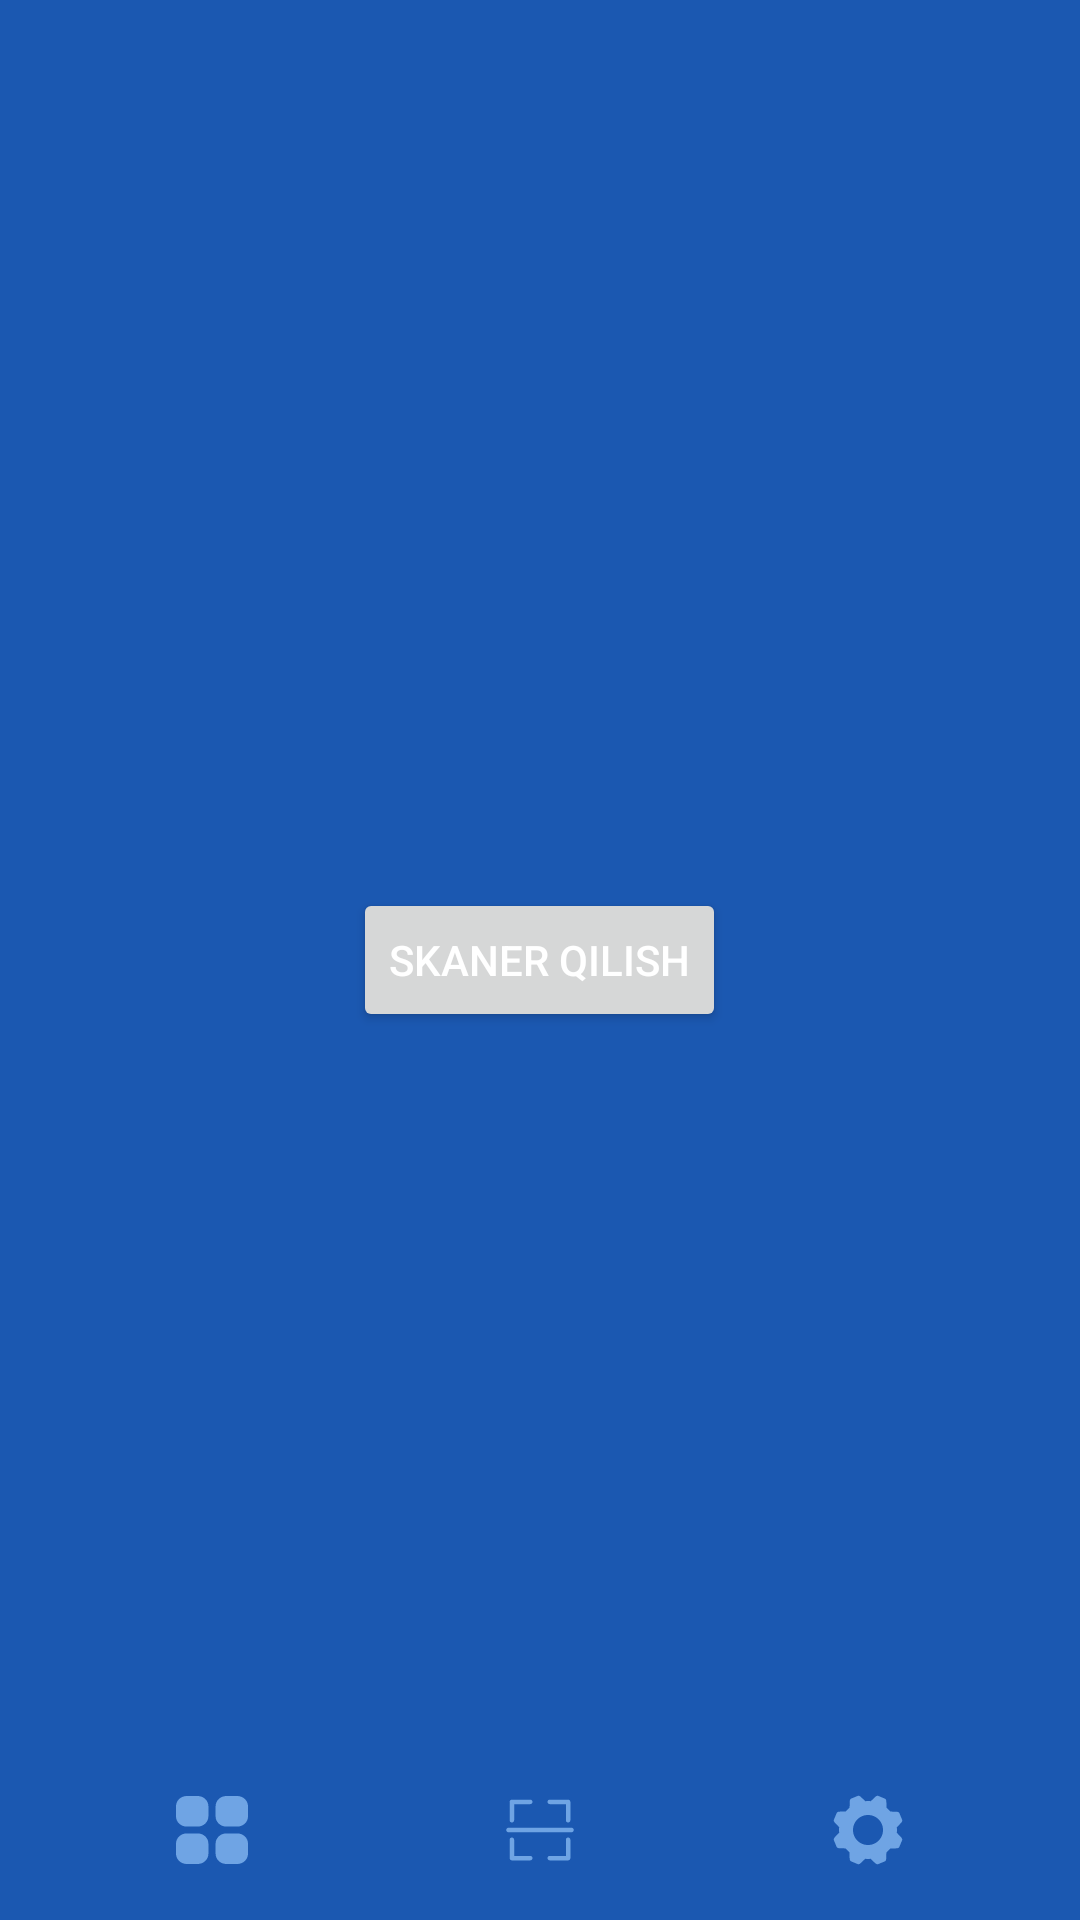

Where icons sit on this 1080×1920 app screen, as (x1, y1, x2, y2):
menu: (176, 1796, 248, 1864)
scan: (506, 1800, 574, 1861)
settings: (834, 1796, 902, 1864)
